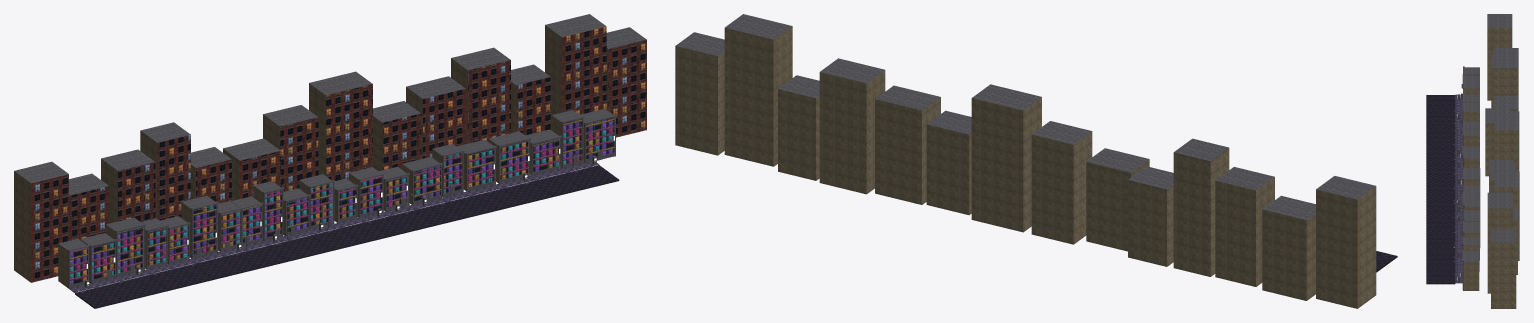
File: stage2.glb
3 views of the same model, side by side, from view 1: azimuth 30°, elevation 25°; view 2: azimuth 150°, elevation 25°; view 3: azimuth 270°, elevation 25° (orthographic). The views are drawn at different scales.
Parts seen in each view (by area): view 1: Scenery; view 2: Scenery; view 3: Scenery.
Part boxes in pixels (x1,y1,x2,y2): Scenery: (14, 14, 646, 308); Scenery: (675, 14, 1397, 308); Scenery: (1426, 14, 1519, 308).
Bounding box in the file's own units: 167 × 30.22 × 29.73.
Materials: 13 (8 with a texture image).
